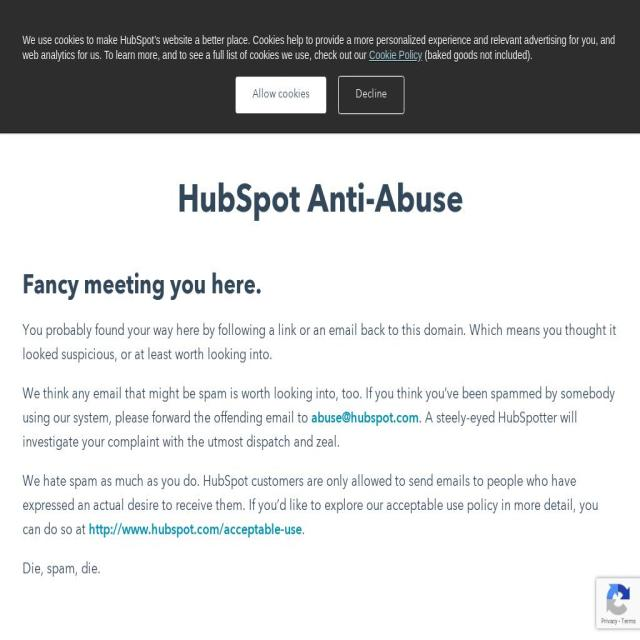button: (402, 81, 484, 135), (279, 81, 355, 135), (484, 81, 557, 135), (107, 11, 192, 57), (22, 11, 104, 58), (235, 76, 326, 113), (556, 81, 618, 135), (522, 16, 612, 52), (338, 75, 405, 114), (354, 81, 402, 135), (446, 16, 513, 53), (22, 95, 88, 121)
field: (412, 25, 438, 48)
heading: (22, 178, 618, 228), (22, 270, 618, 305)
iframe: (596, 578, 640, 628)
image: (22, 95, 88, 121)
link: (89, 522, 302, 538), (311, 411, 419, 427), (369, 48, 422, 62)
text: (23, 474, 598, 538), (22, 320, 618, 368), (23, 386, 615, 426), (22, 411, 578, 451), (23, 32, 615, 62), (22, 558, 618, 582), (107, 22, 192, 46), (402, 96, 484, 120), (279, 96, 355, 120), (484, 96, 557, 120), (422, 48, 533, 62), (556, 96, 618, 120), (354, 96, 402, 120), (40, 28, 74, 42), (302, 522, 305, 538)
